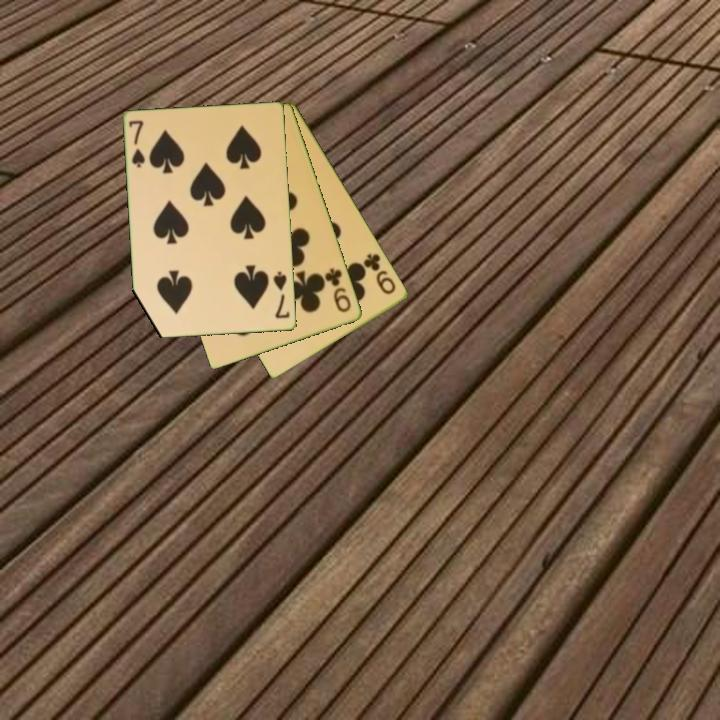7s: (270, 268, 293, 322), (126, 117, 148, 171)
9c: (360, 250, 399, 297), (322, 265, 354, 316)
